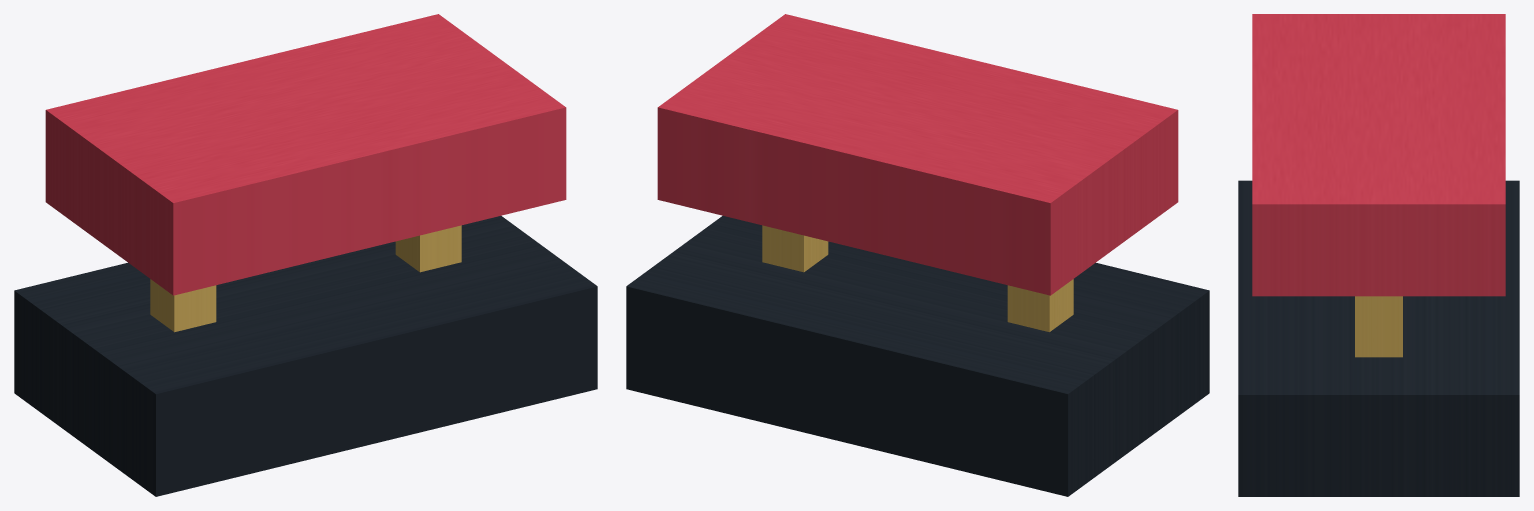
3 views of the same model, side by side, from view 1: azimuth 30°, elevation 25°; view 2: azimuth 150°, elevation 25°; view 3: azimuth 270°, elevation 25° (orthographic).
Parts seen in each view (by area): view 1: 248_L119_W337; view 2: 248_L119_W337; view 3: 248_L119_W337.
Part boxes in pixels (x1,y1,x2,y2): 248_L119_W337: (14,14,597,496); 248_L119_W337: (626,14,1209,496); 248_L119_W337: (1238,14,1519,496).
Size of the model in its own units: 0.009 by 0.0055 by 0.005.
Materials: 3 (3 with a texture image).
